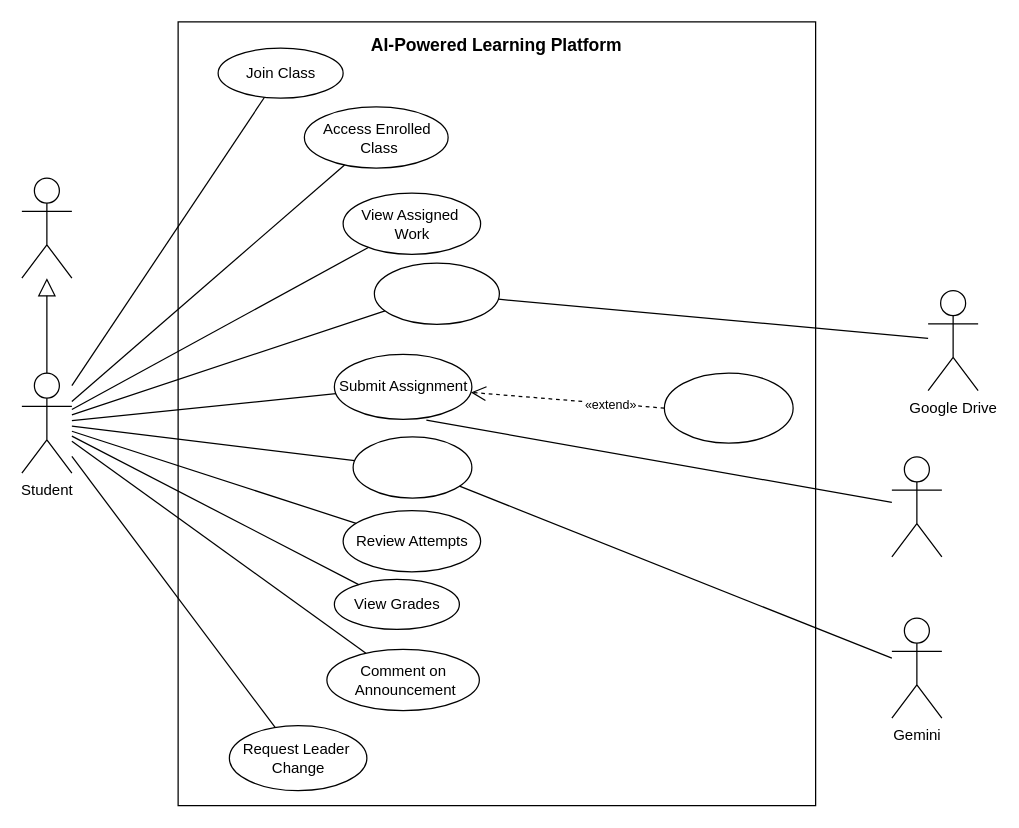
Image size: 1019x828. Some labels were removed from this diagram. The shapes that lost their labels are listed below. From the top down, each one's centre as x and y in pixels, then its label:
At (46,227): "User".
At (436,293): "View Learning Material".
At (728,407): "Submit Group Document".
At (412,467): "Grade with AI".
At (916,506): "Judge0".
